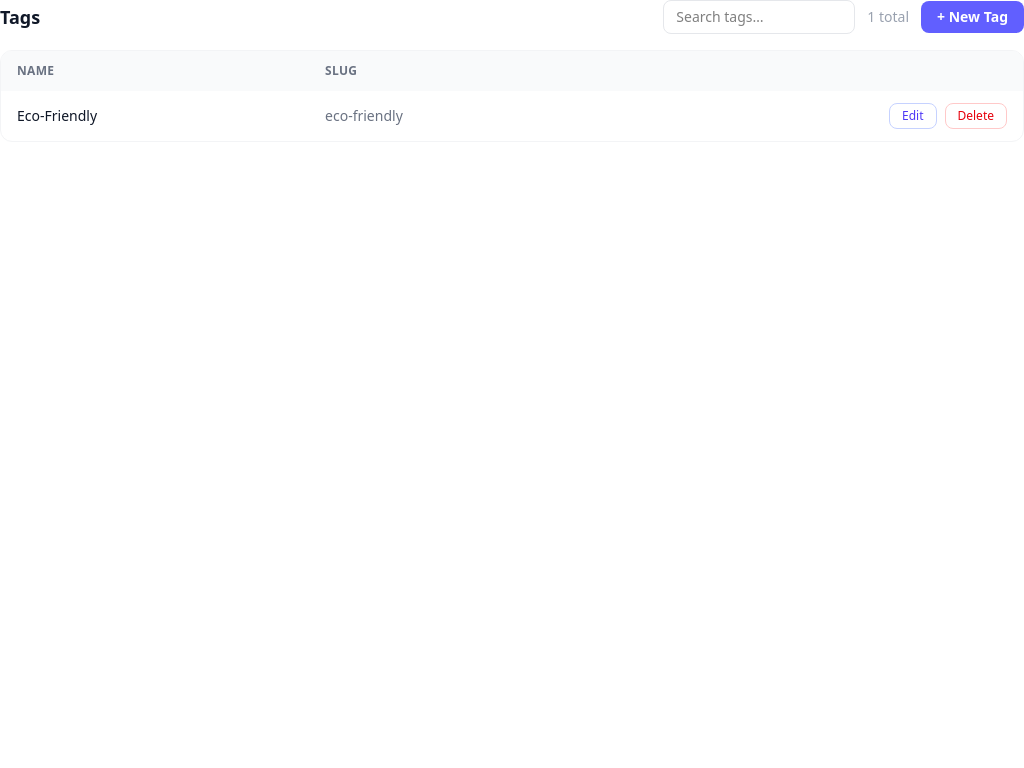
Test: TagsTab › pre-fills the form on edit
Expected: the text "Eco-Friendly" is shown, [1,91,309,141]
What coordinates should you click on to do the following:
click the button "Edit"
I would click on:
 (913, 116)
Its box is [889,103,936,129].
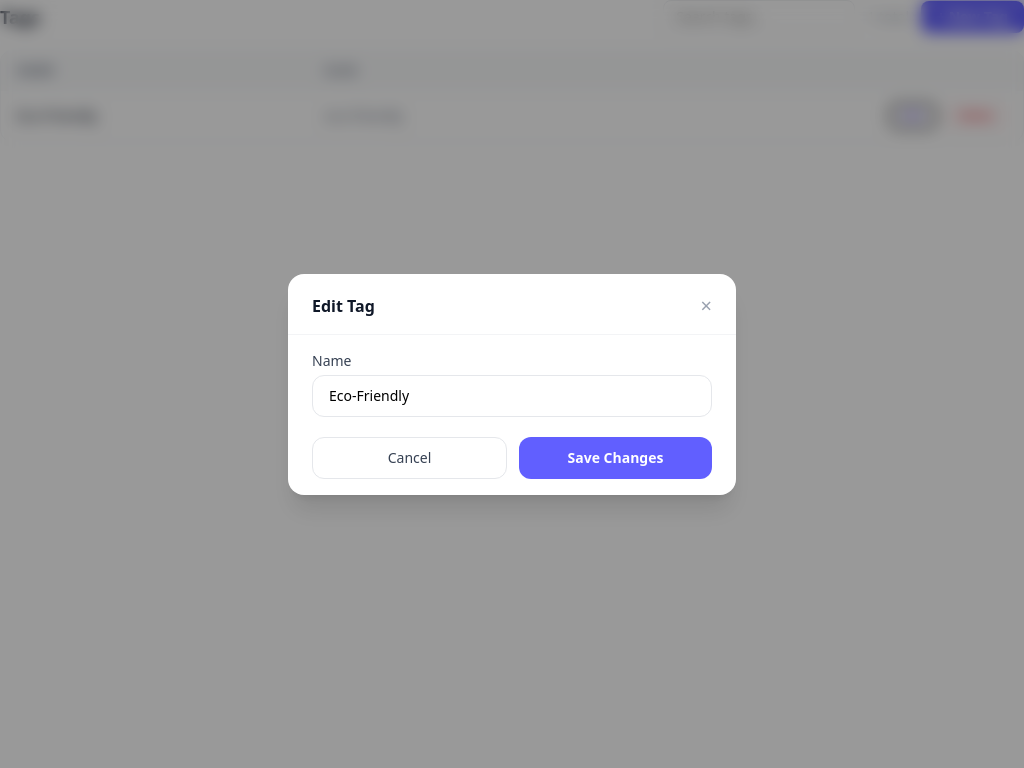
Result: the field labelled "Name" holds "Eco-Friendly" at [312,374,712,416]
